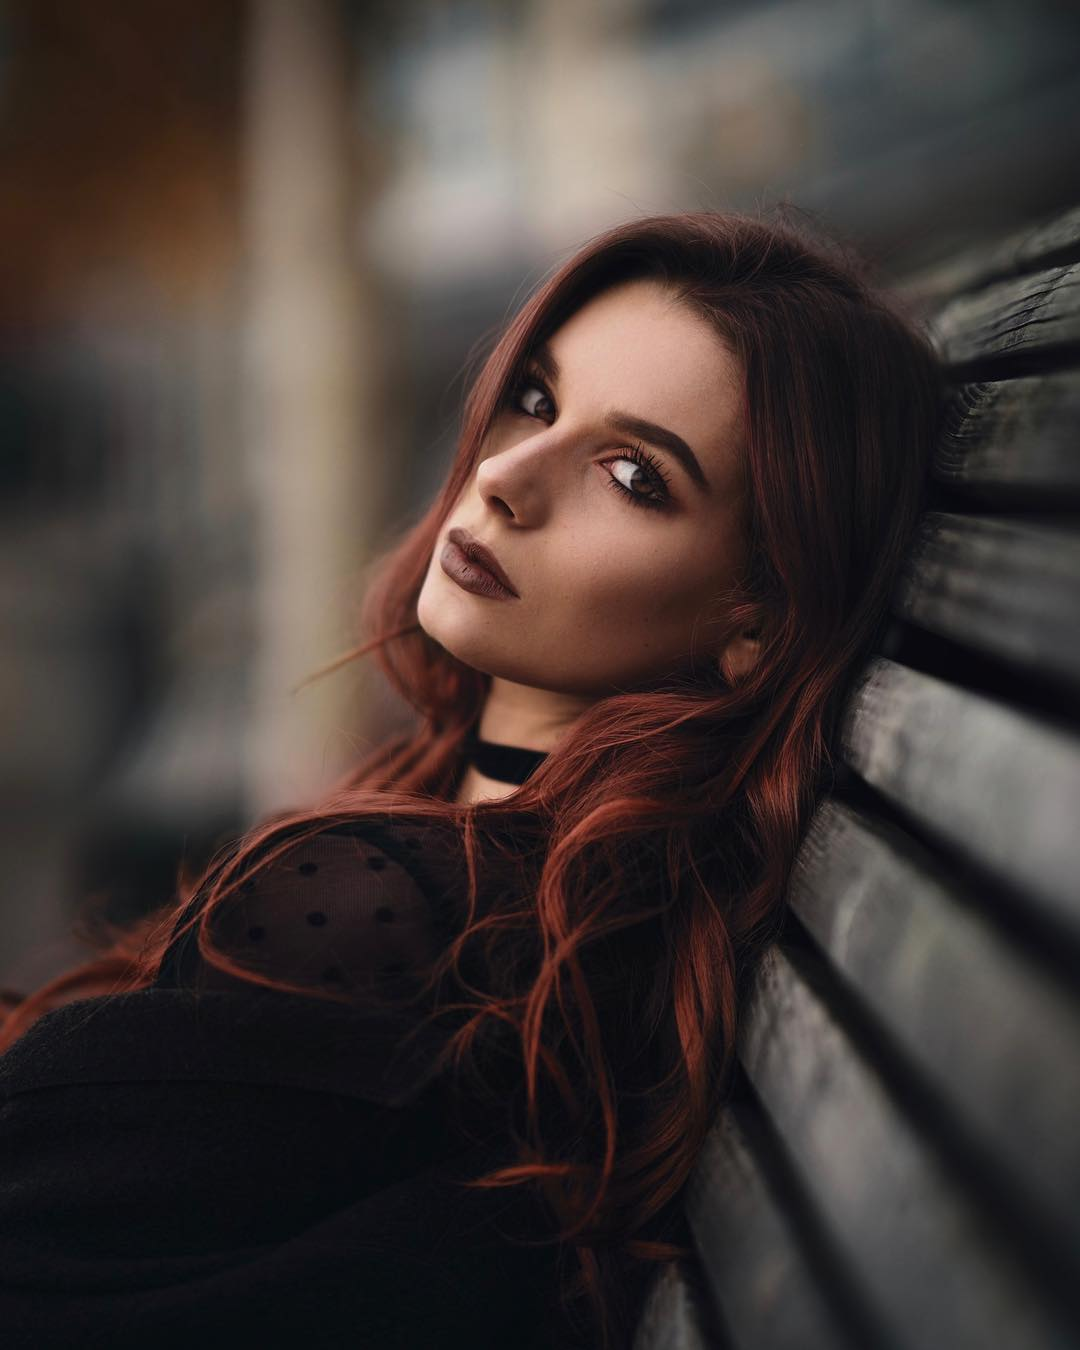bare: (419, 463, 640, 667)
